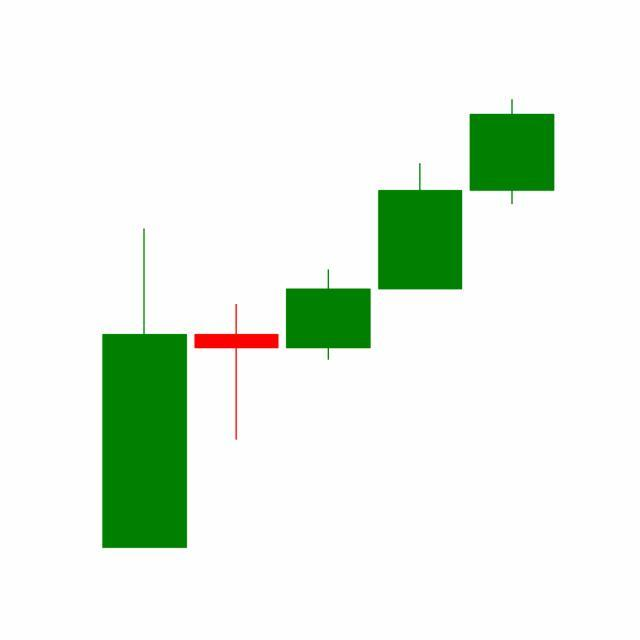Marubozu: (466, 98, 559, 206)
